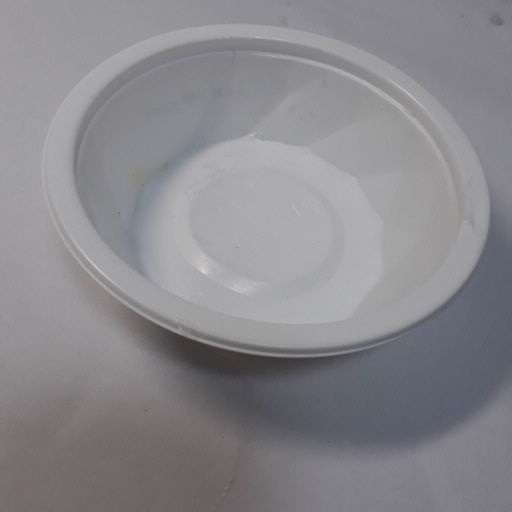Plastic_5: (44, 20, 492, 364)
